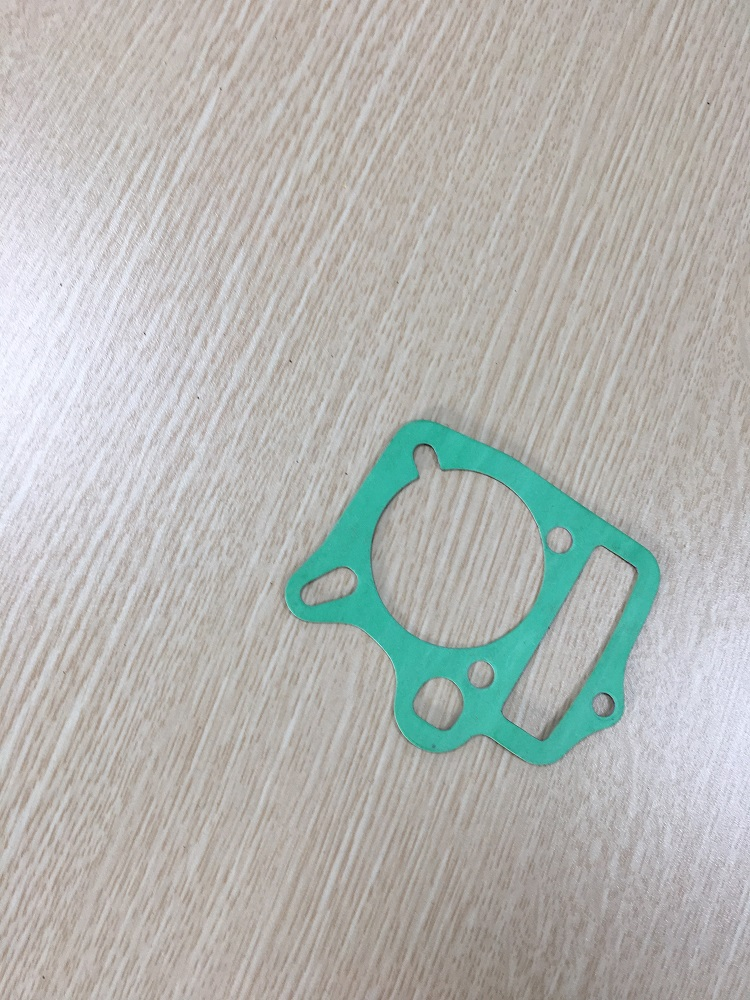circle 1: (363, 424, 557, 665)
circle 2: (388, 665, 479, 742)
circle 3: (283, 551, 374, 619)
circle 4: (535, 513, 588, 565)
circle 5: (576, 680, 641, 733)
circle 6: (491, 536, 651, 768)
object: (238, 395, 694, 801)
